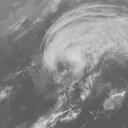cyclone: (43, 4, 121, 79)
